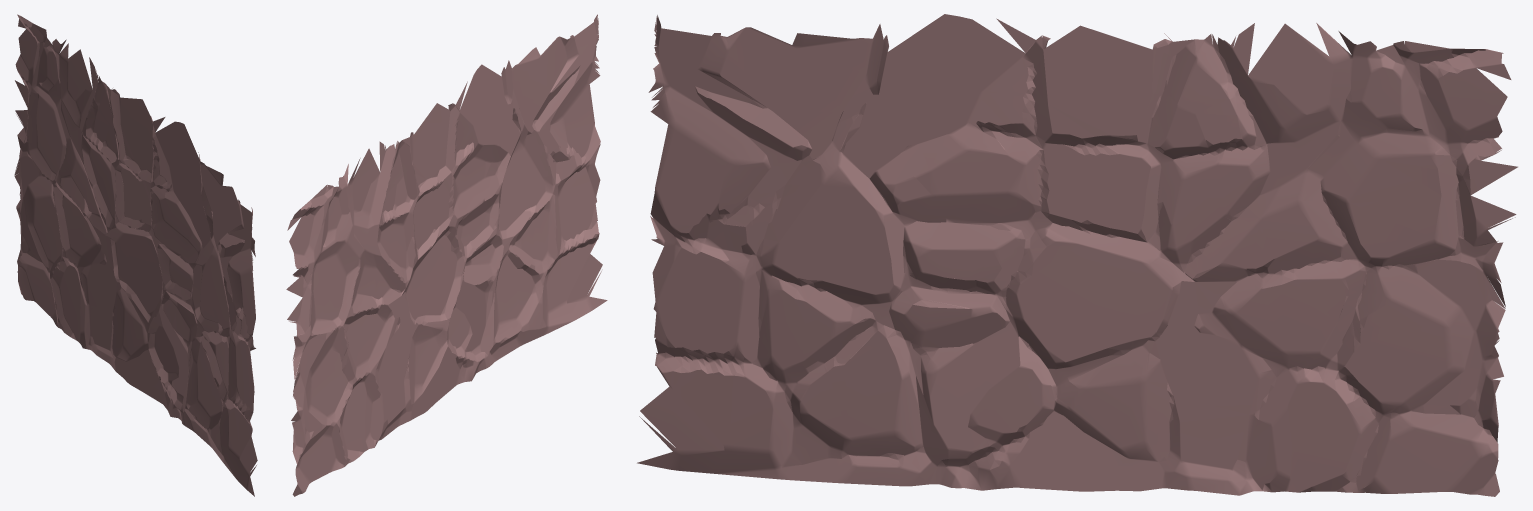
Rendered from cliff_area_2.fbx_Cliff_Area_2_027LODs.fbx.
3 renders of one model, left to right at view 1: azimuth 30°, elevation 25°; view 2: azimuth 150°, elevation 25°; view 3: azimuth 270°, elevation 25°, orthographic. The views are drawn at different scales.
Parts seen in each view (by area): view 1: Cliff Area 2.027_LOD0; view 2: Cliff Area 2.027_LOD0; view 3: Cliff Area 2.027_LOD0.
Part boxes in pixels (x1=…): Cliff Area 2.027_LOD0: x1=14, y1=14, x2=257, y2=496; Cliff Area 2.027_LOD0: x1=286, y1=14, x2=607, y2=496; Cliff Area 2.027_LOD0: x1=637, y1=14, x2=1517, y2=496.
Size of what is drawn, in the model's own units: 531 by 3970 by 6637.
